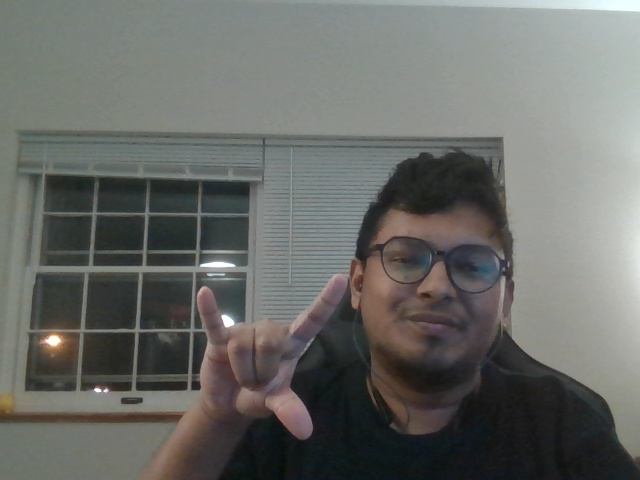ilikeyou: (179, 263, 344, 456)
